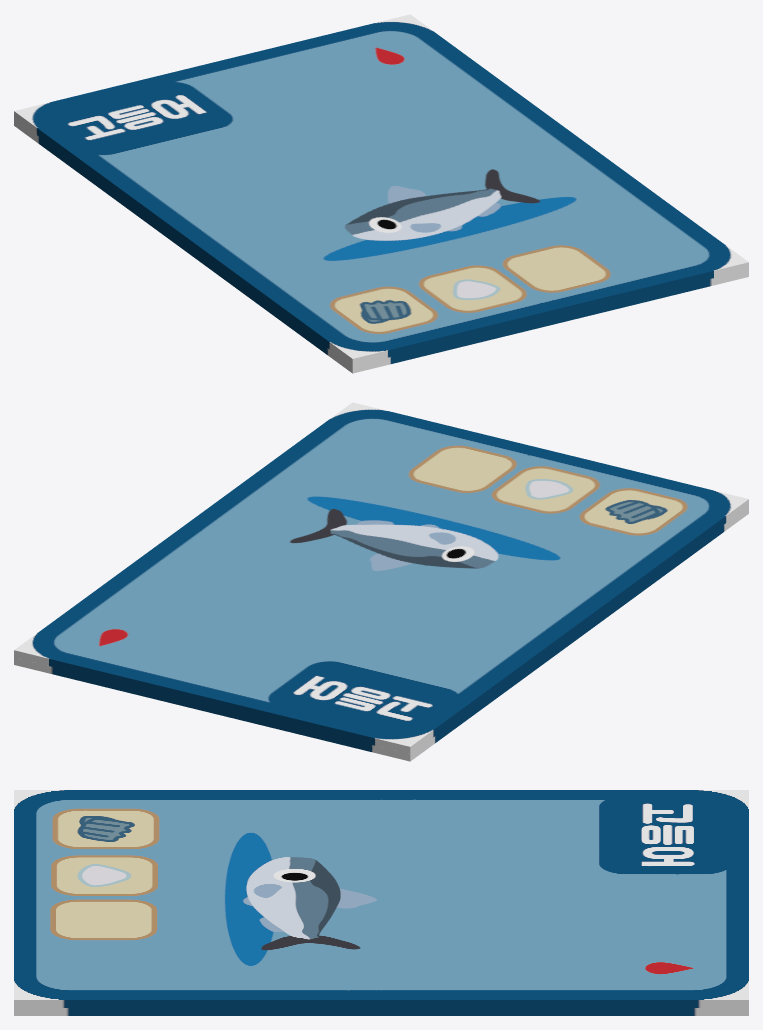
The model's file is MackerelCard.fbx.
3 views of the same model, one above another, from view 1: azimuth 30°, elevation 25°; view 2: azimuth 150°, elevation 25°; view 3: azimuth 270°, elevation 25° (orthographic). The views are drawn at different scales.
Parts seen in each view (by area): view 1: Front, Back; view 2: Front, Back; view 3: Front, Back.
Boxes of the visible parts, box(x1,y1,x2,y2) form: Front: box(14, 14, 748, 366); Back: box(14, 118, 748, 373); Front: box(14, 402, 748, 754); Back: box(14, 506, 748, 761); Front: box(14, 790, 748, 1007); Back: box(14, 1008, 748, 1015).
Size of the model in its own units: 4.06 by 0.1436 by 6.
